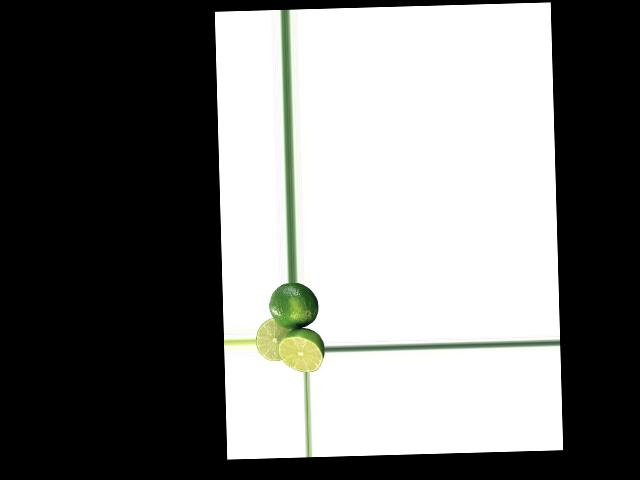lemon: (269, 283, 317, 332)
